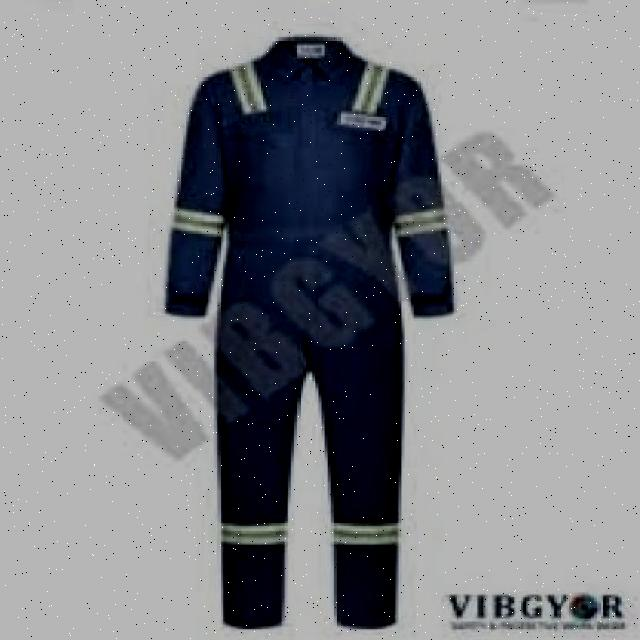Mask: (164, 54, 458, 574)
